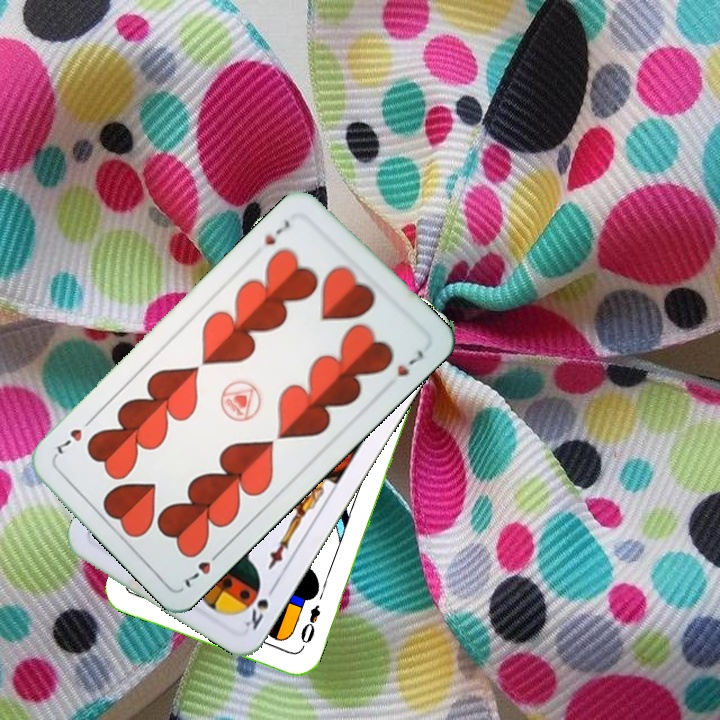EO: (296, 600, 323, 652)
H7: (180, 545, 226, 590), (260, 215, 293, 248)
SK: (240, 580, 279, 633)
